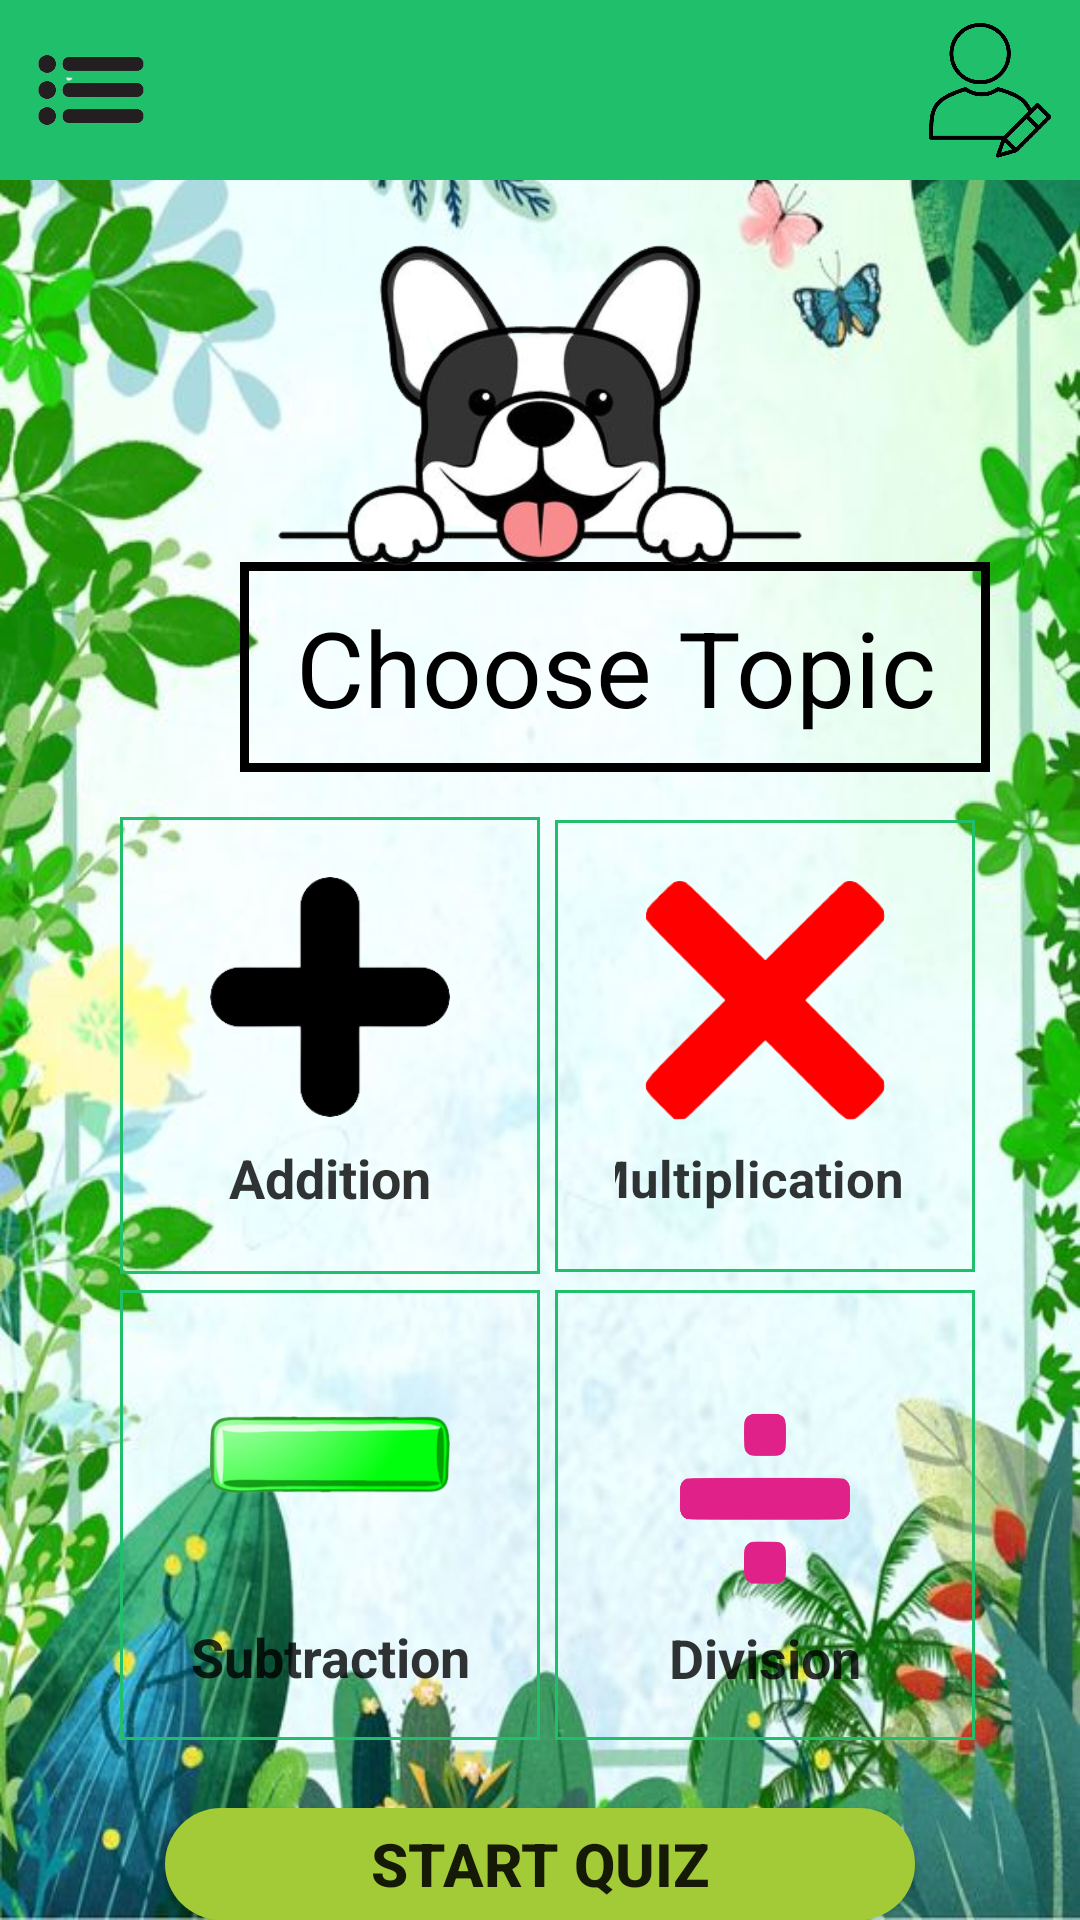

Icon bounding boxes for this 1080×1920 phone screenshot, format (x1, y1, x2, y2):
sym: (210, 877, 450, 1117), (645, 881, 885, 1120), (210, 1385, 450, 1575), (672, 1397, 915, 1650)
